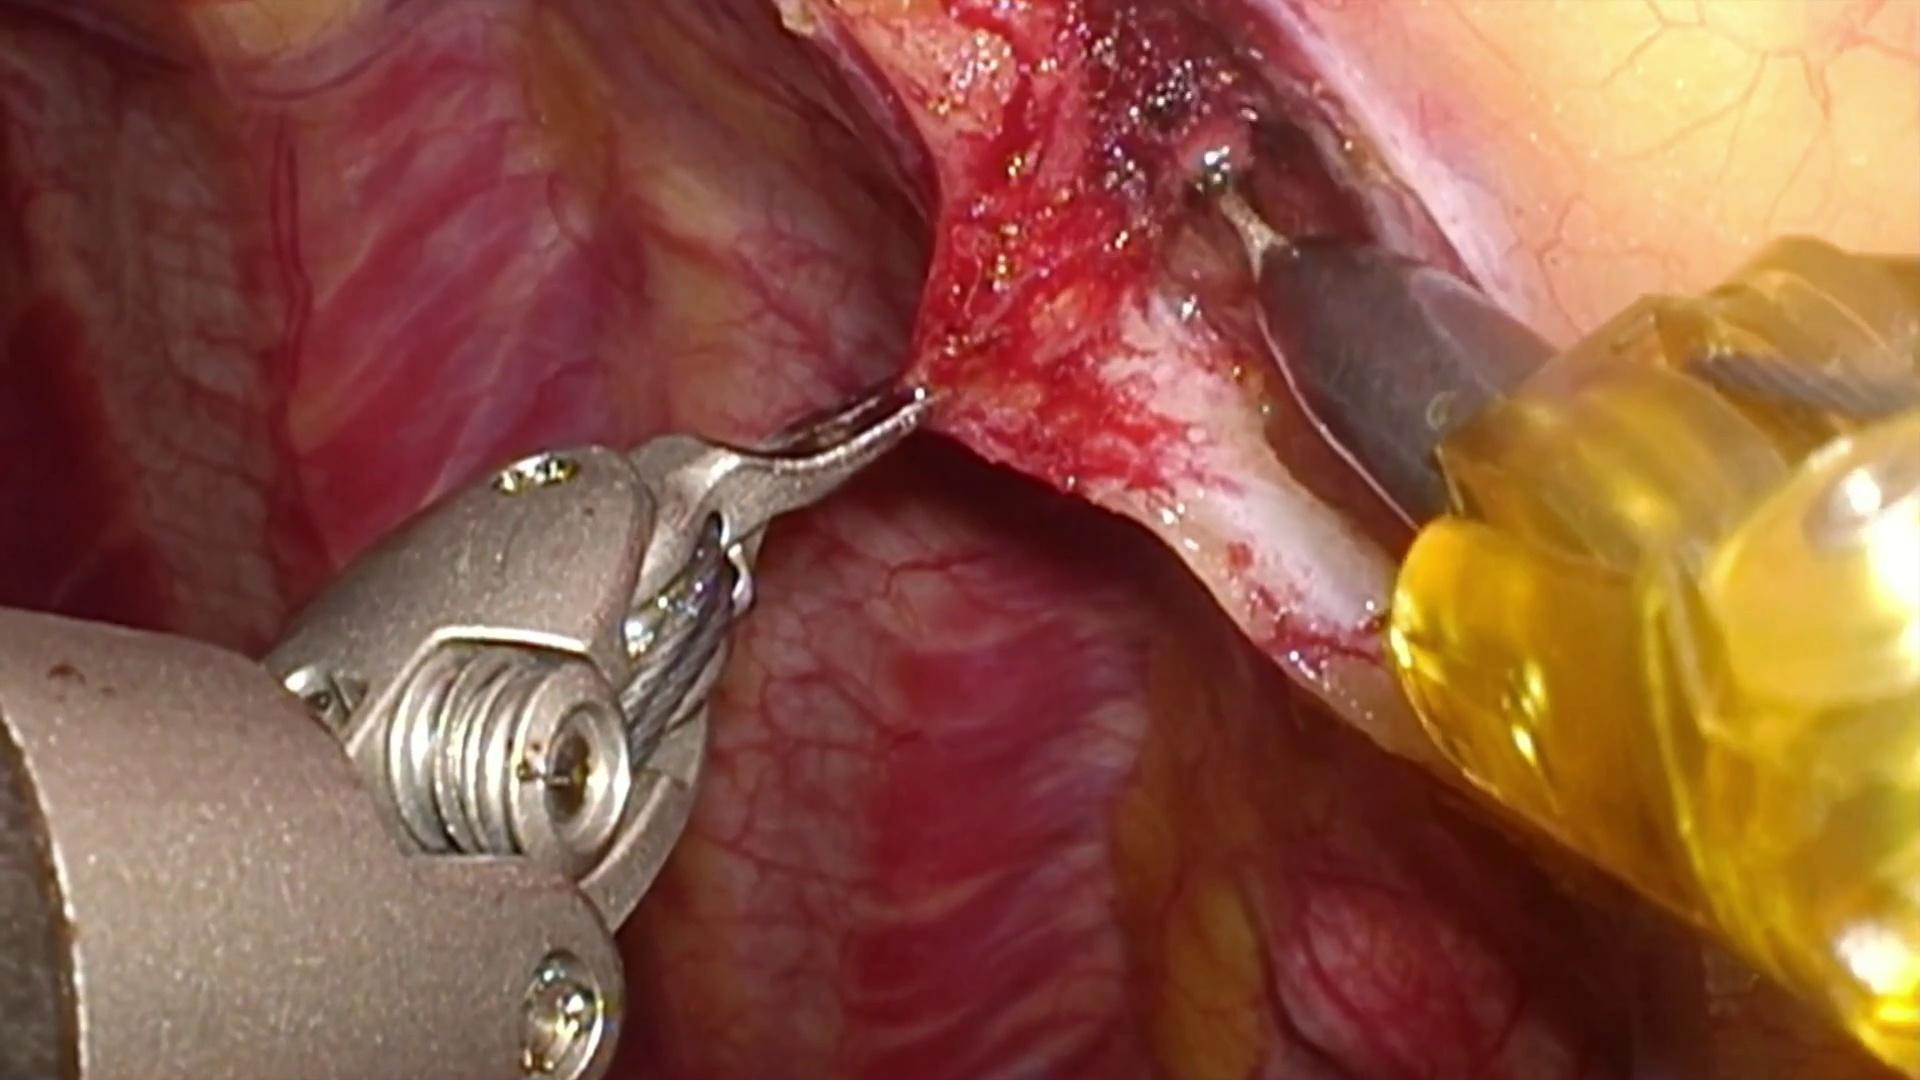Cautery_Spatula: (1193, 162, 1568, 533)
Debakey: (628, 336, 957, 567)
